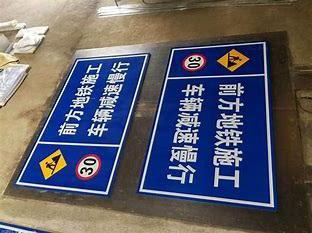sign: (149, 39, 279, 211), (17, 41, 142, 197)
